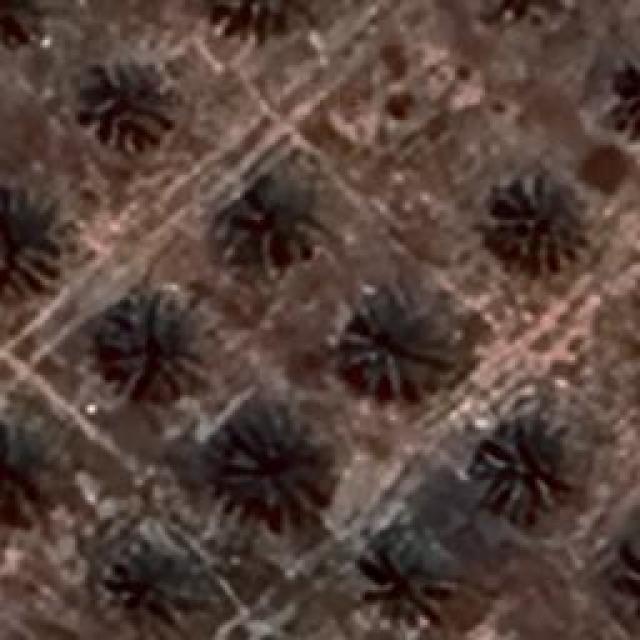PalmTree: (100, 288, 210, 390), (220, 422, 330, 510), (342, 305, 448, 395), (100, 538, 192, 634), (498, 175, 588, 270), (235, 175, 315, 273), (367, 540, 455, 625), (478, 425, 560, 515), (87, 58, 175, 140), (0, 190, 60, 295), (0, 424, 62, 524), (199, 0, 312, 44), (479, 0, 578, 32), (605, 59, 640, 145), (0, 0, 52, 50)
